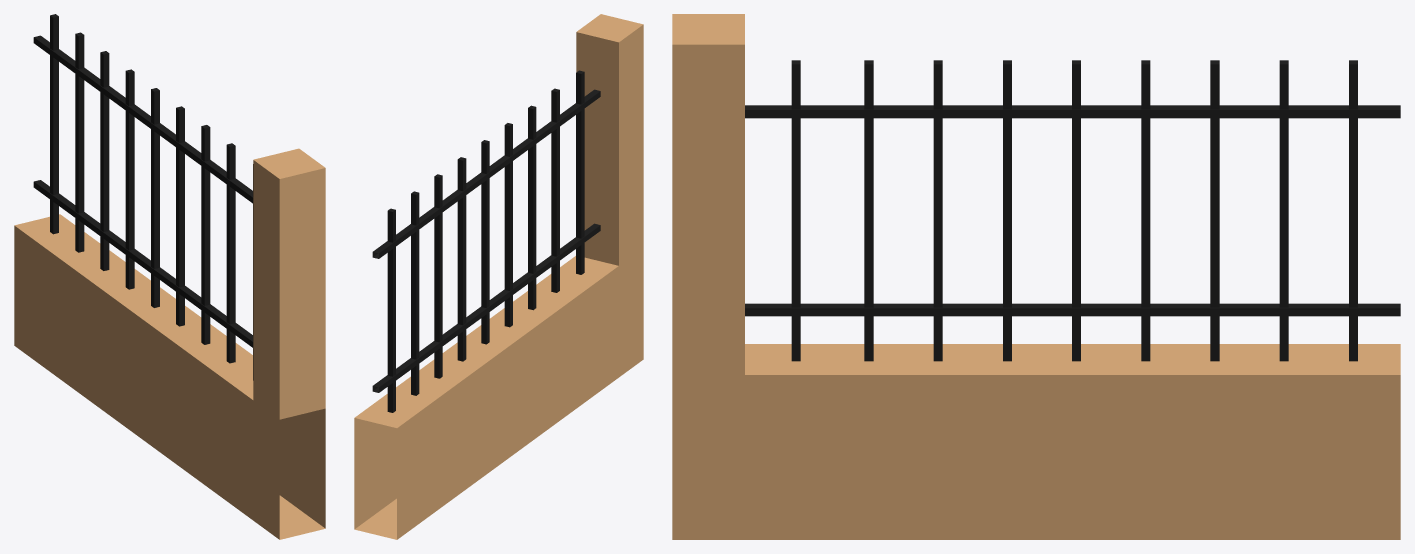
File: Fence03.fbx
3 renders of one model, left to right at view 1: azimuth 30°, elevation 25°; view 2: azimuth 150°, elevation 25°; view 3: azimuth 270°, elevation 25°, orthographic. The views are drawn at different scales.
Parts seen in each view (by area): view 1: Fence03; view 2: Fence03; view 3: Fence03.
Boxes of the visible parts, <box> form: Fence03: <box>14,14,325,539</box>; Fence03: <box>354,14,643,539</box>; Fence03: <box>672,14,1400,539</box>.
Size of the model in its own units: 40 by 300 by 400.
